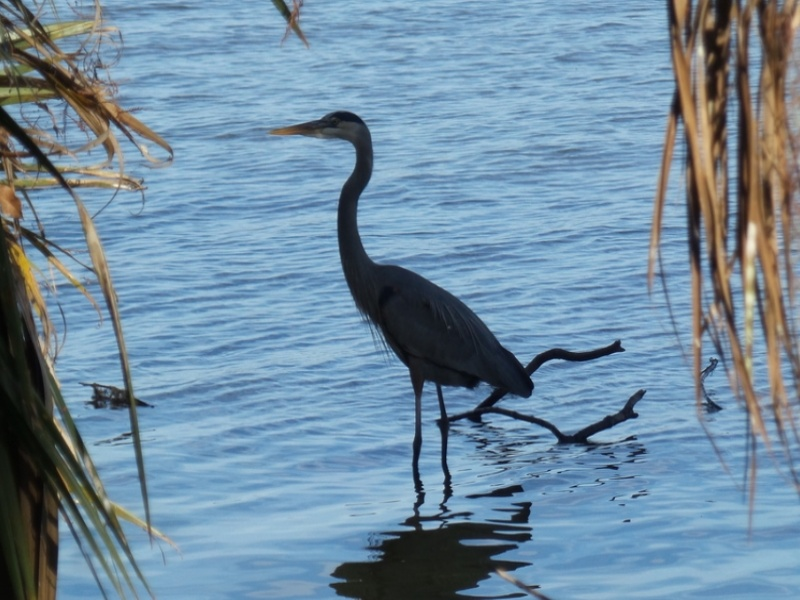heron: (273, 108, 536, 494)
